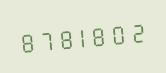eight: (17, 25, 35, 57), (55, 22, 73, 53), (93, 19, 111, 50)
one: (74, 20, 92, 52)
seven: (36, 24, 54, 55)
two: (131, 15, 149, 47)
zero: (112, 17, 130, 48)
